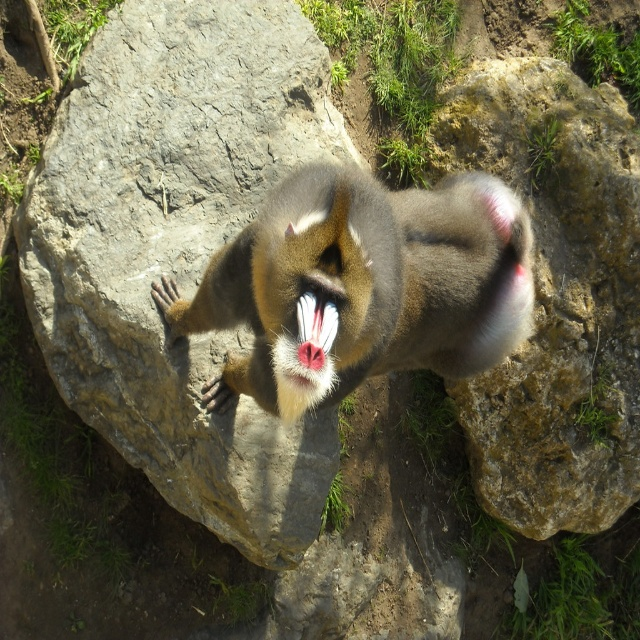Monkey: (149, 142, 530, 517)
